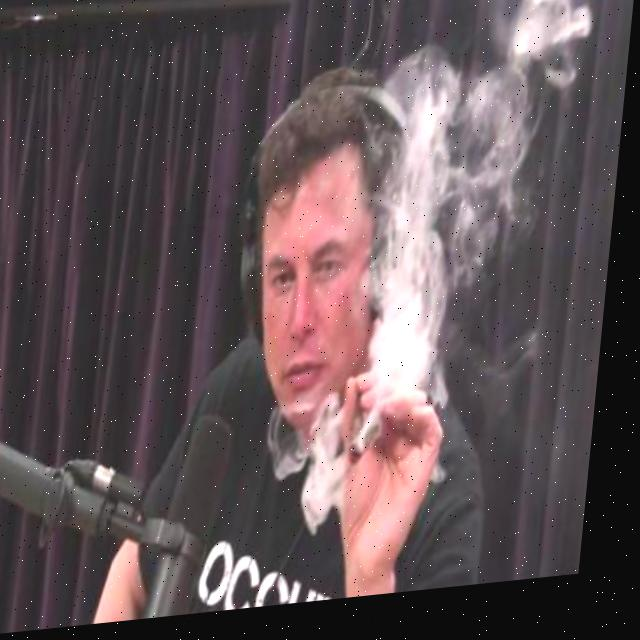cigarette: (356, 416, 393, 477)
